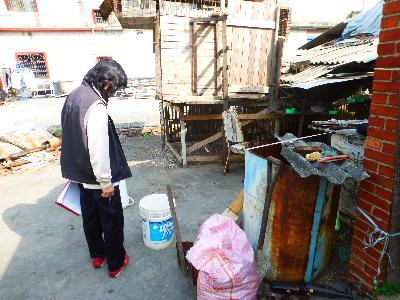bucket: (243, 140, 337, 286), (138, 192, 177, 251)
plastic_bag: (186, 212, 258, 300)
